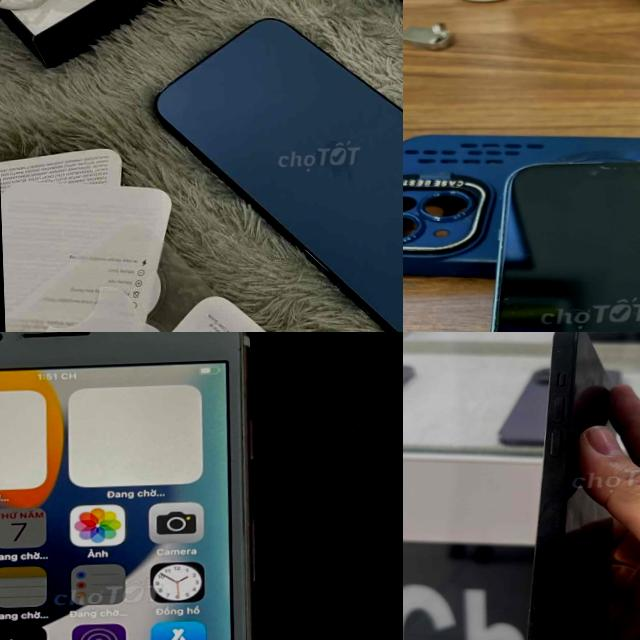gen_12_13: (148, 1, 403, 332)
gen_14: (499, 332, 640, 640), (439, 145, 640, 332)
gen_7_8: (0, 332, 294, 640)
scratch: (513, 564, 587, 640), (550, 148, 640, 184), (7, 332, 101, 345), (550, 332, 567, 364)
